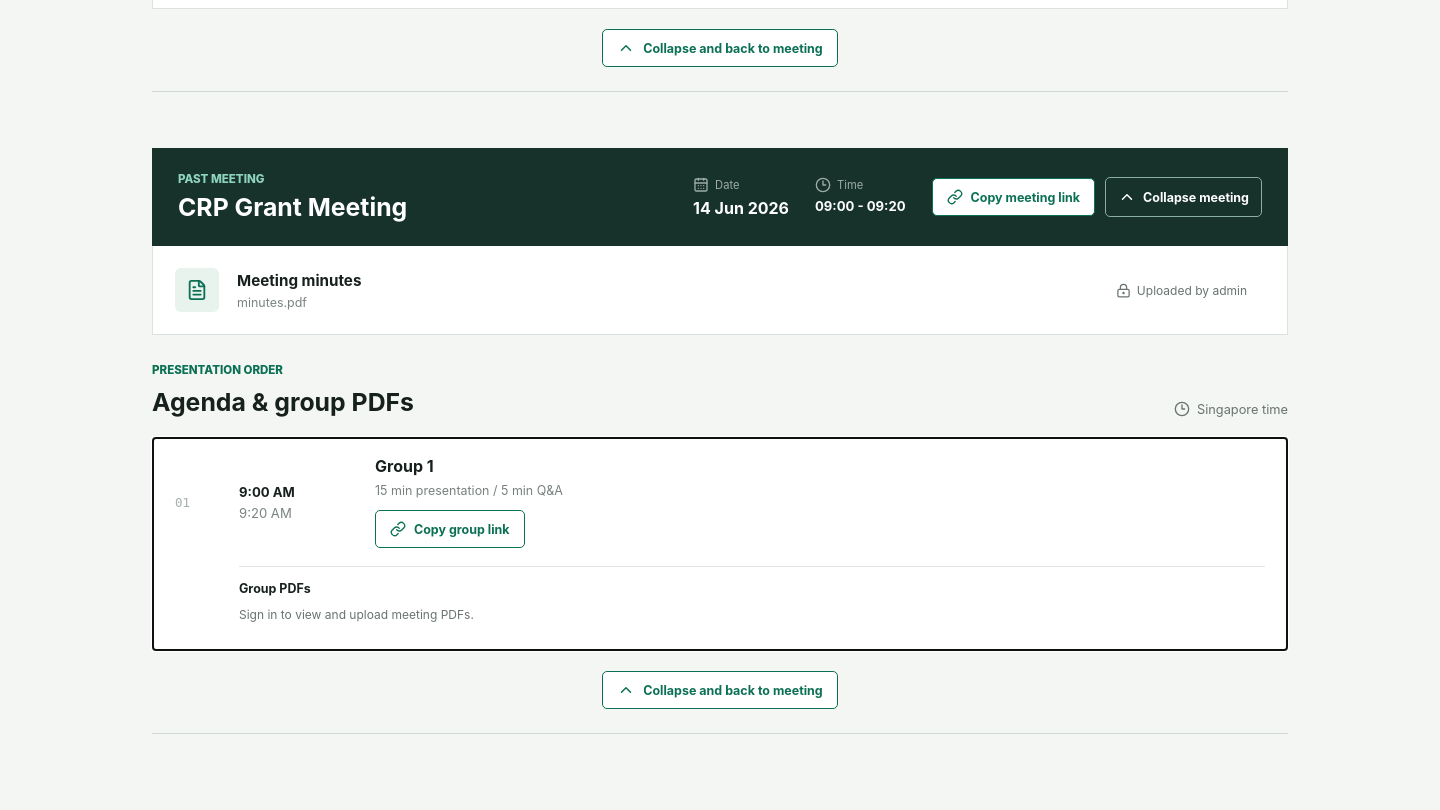
Scenario: MeetingCollection › expands and focuses an older linked group without preventing later collapse
(page scrolled)
What coordinates should you click on to do the following:
click the button "Collapse meeting"
I would click on:
 (1184, 197)
Its box is [1105,177,1262,217].
(page scrolled)
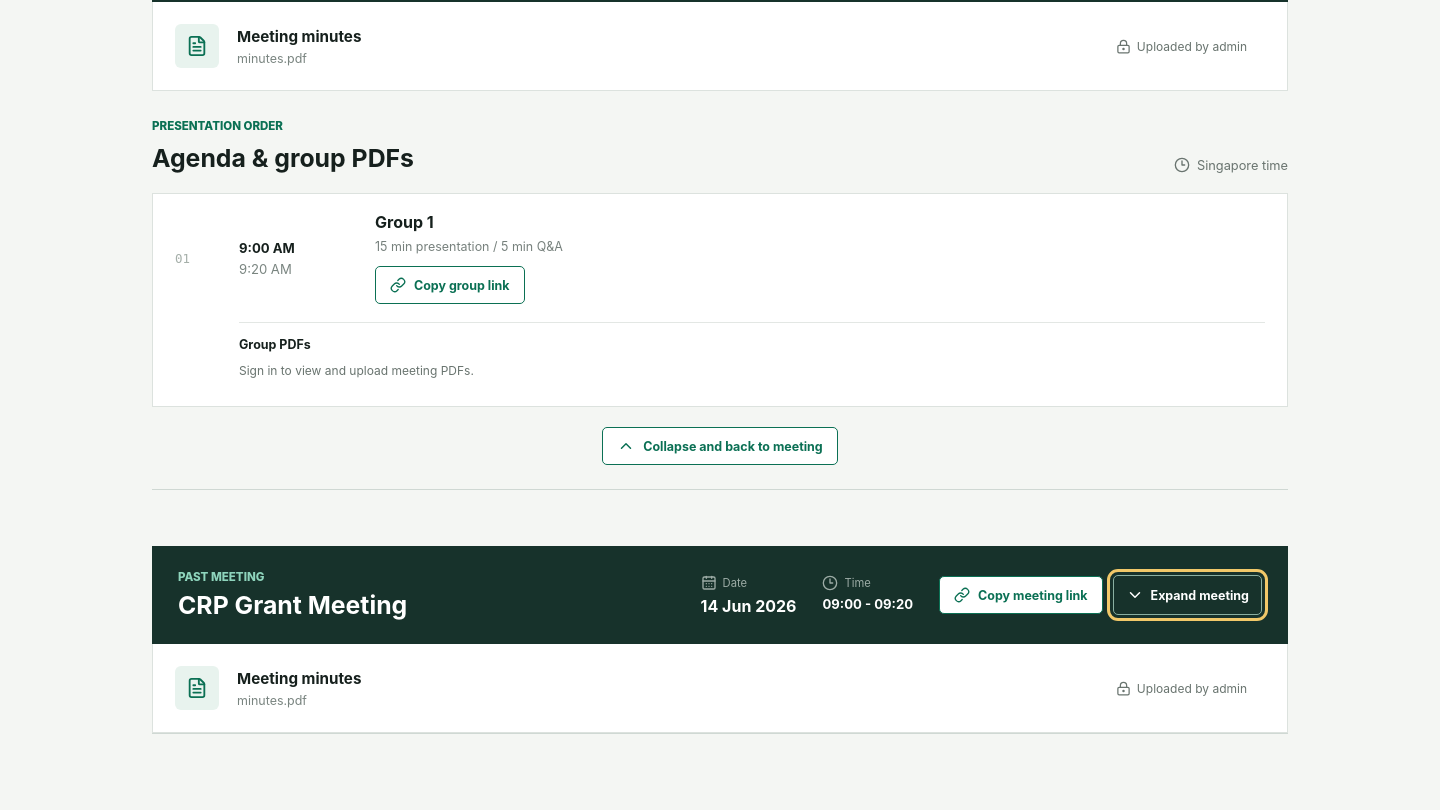
Now the button "Expand meeting" is shown, box [1113,575,1262,615]
